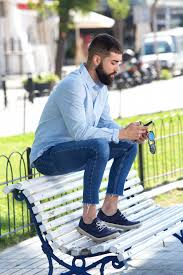sitting: (23, 31, 159, 247)
